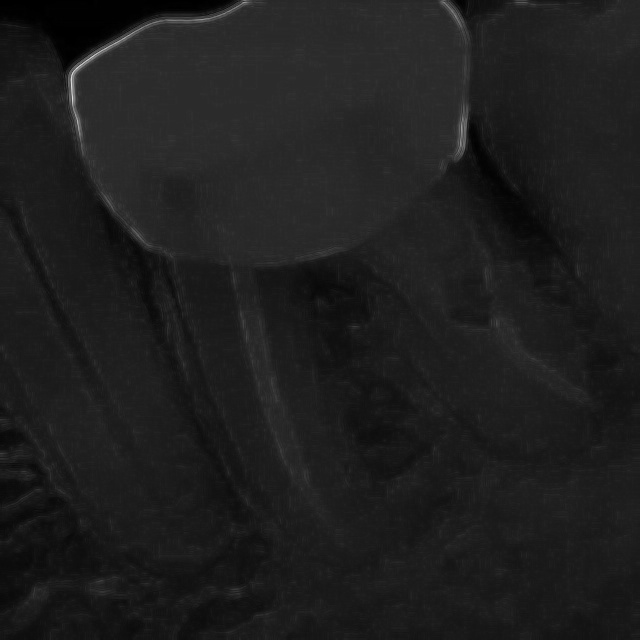Class 2- incomplete endodontic treatment: (83, 110, 625, 571)
